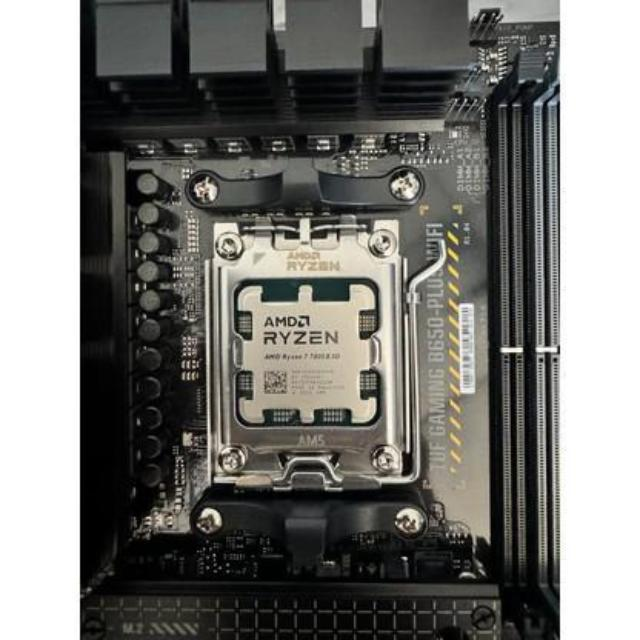CPU: (238, 282, 378, 430)
